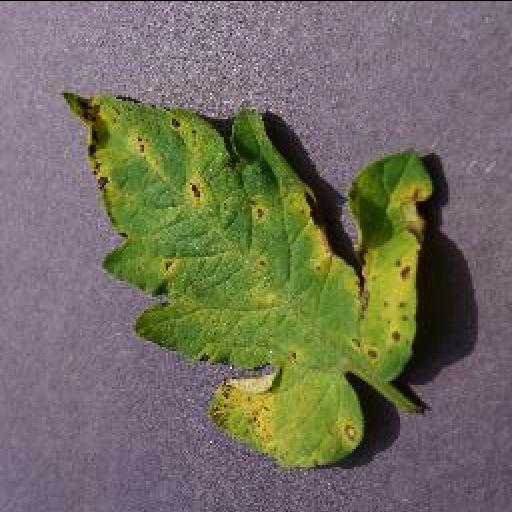disease_tomato: (66, 92, 438, 466)
